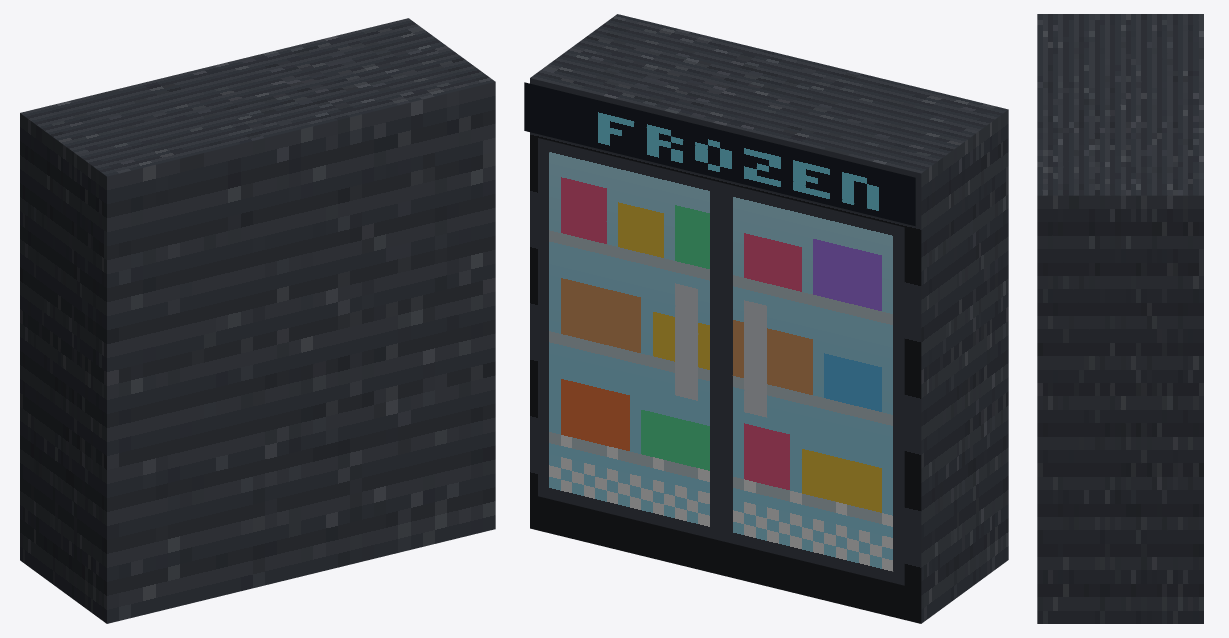
The model's file is freezer_case.glb.
The picture shows the model from 3 angles, left to right: view 1: azimuth 30°, elevation 25°; view 2: azimuth 150°, elevation 25°; view 3: azimuth 270°, elevation 25°; orthographic projection. The views are drawn at different scales.
Parts seen in each view (by area): view 1: Body; view 2: Glow, Body; view 3: Body.
Part boxes in pixels (left/top/right/bottom): Body: left=20, top=18, right=495, bottom=623; Glow: left=524, top=82, right=915, bottom=585; Body: left=530, top=14, right=1008, bottom=623; Body: left=1037, top=14, right=1203, bottom=623.
Bounding box in the file's own units: 2 × 2.2 × 0.825.
Materials: 1 (1 with a texture image).
